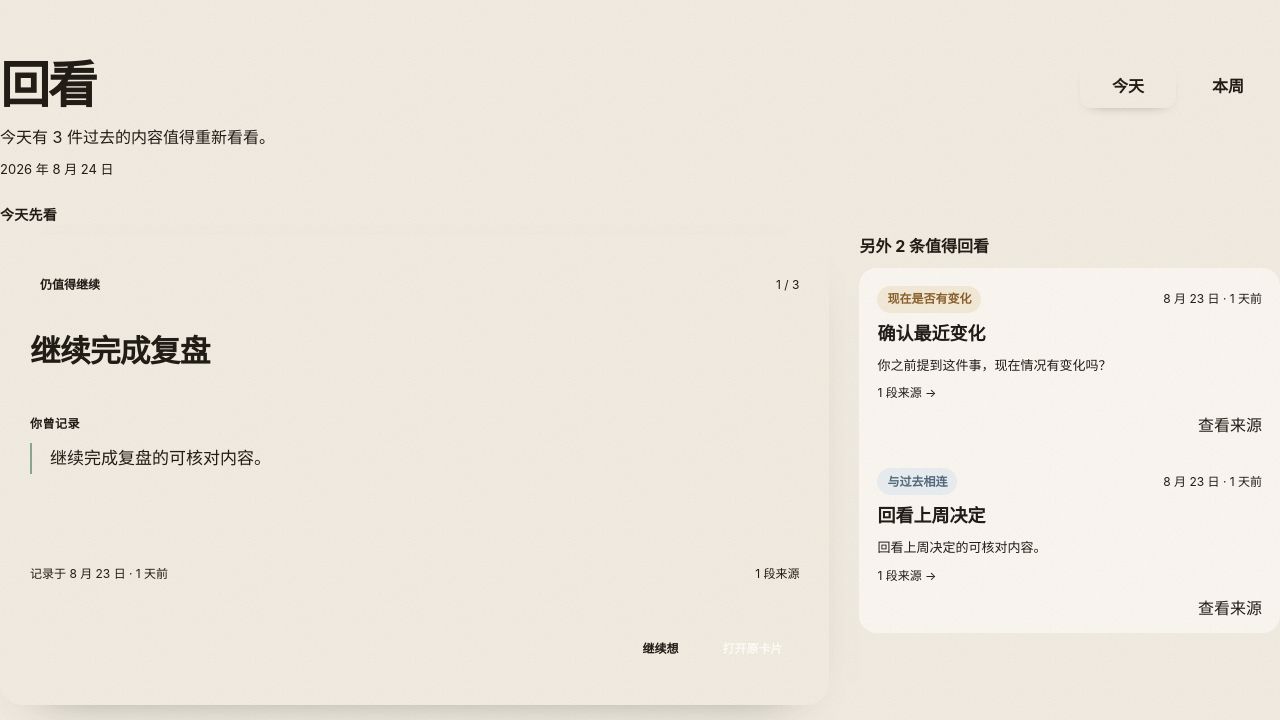
Test: DailyReflectionReturn › opens an evidence-grounded accessible Quick View and restores scroll and focus
Click the button "继续完成复盘" at (120, 352), box [30,330,799,374]
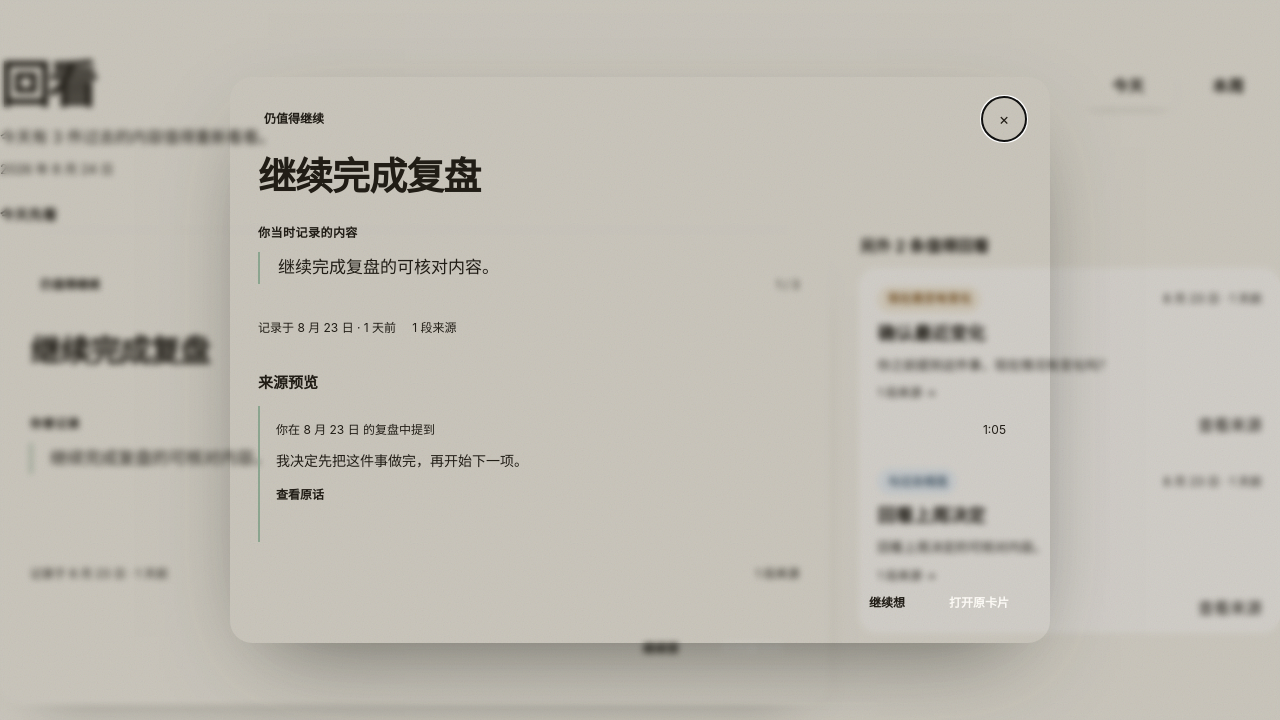
Now the button "继续完成复盘" below "今天先看" is expanded, box [30,330,799,374]
Now the text "我决定先把这件事做完，再开始下一项。" is shown, box [276,452,528,469]
Now the text "你在 8 月 23 日 的复盘中提到" is shown, box [276,421,435,439]
Press Tab
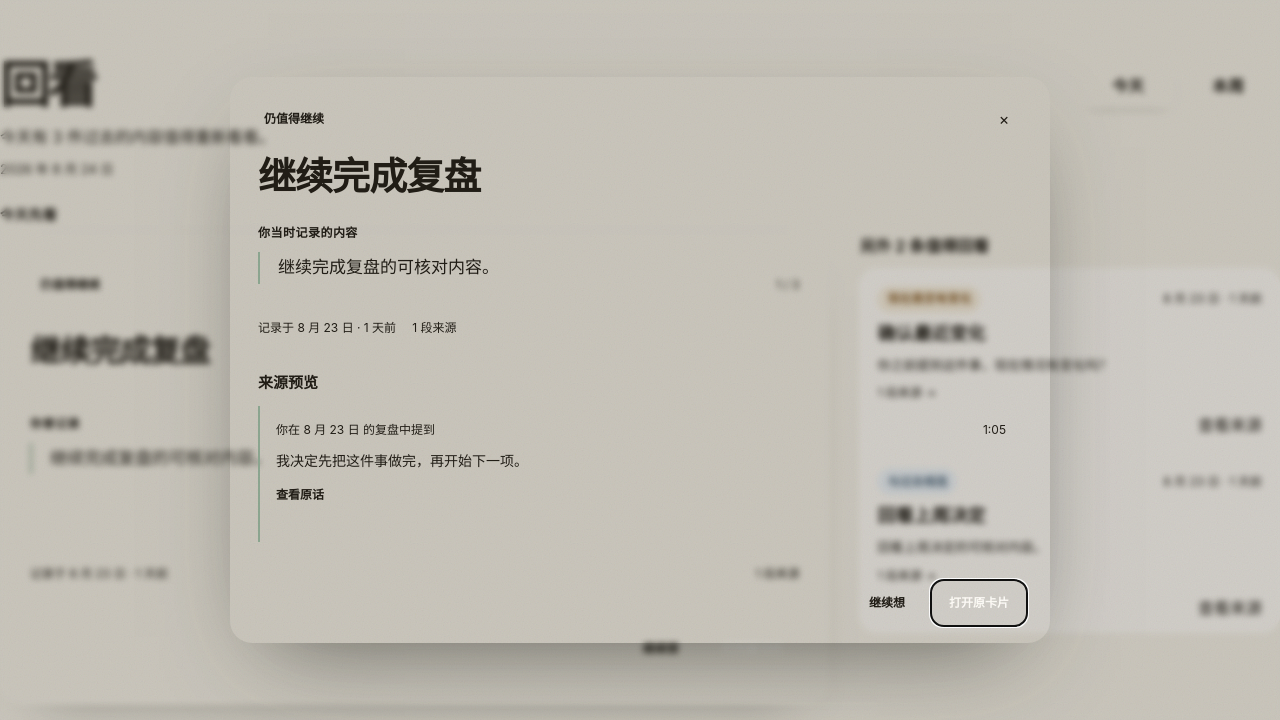
Press Escape
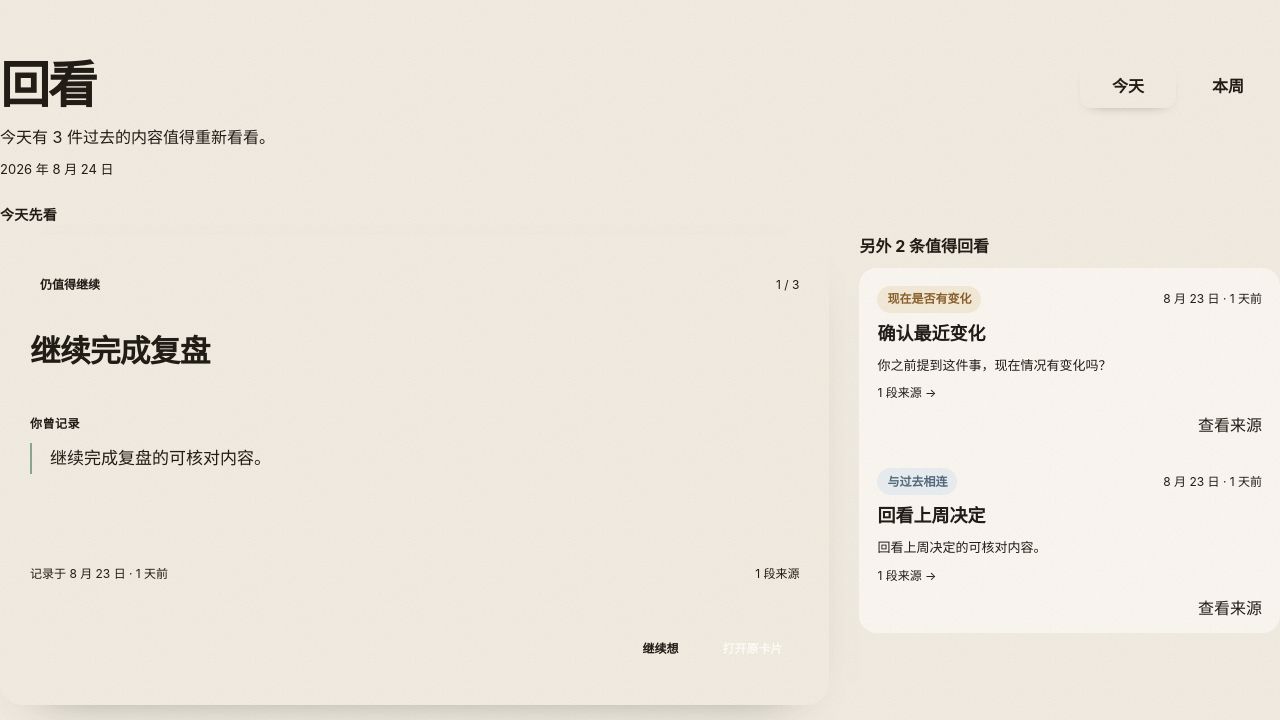
Now the dialog is gone
Now the button "继续完成复盘" is collapsed, box [30,330,799,374]
